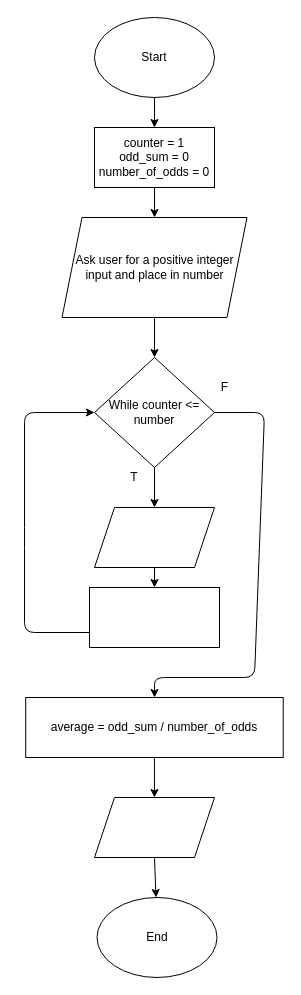
Some shapes in this 301 by 995 pixel diagram are drawn without their labels. Each missing label, with the box of its shape:
odd_sum += counter number_of_odds += 1 counter += 2: (88, 586, 220, 648)
print counter: (94, 506, 214, 568)
print odd_sum print average: (94, 796, 214, 858)
